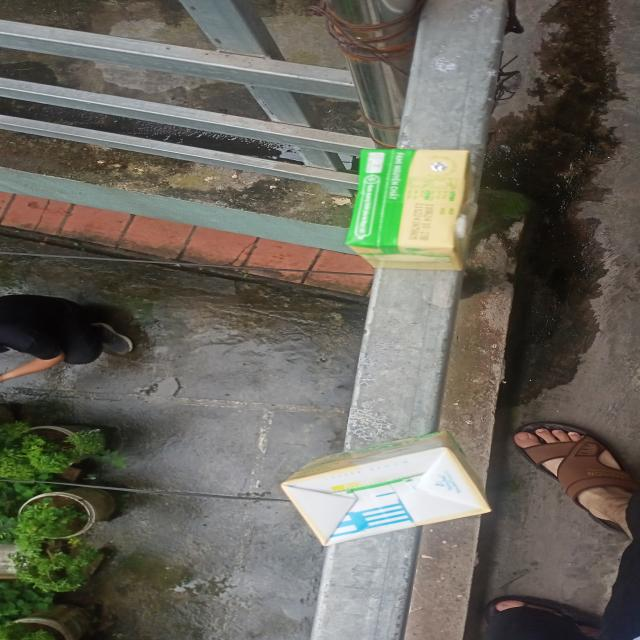Fami: (285, 431, 496, 545), (351, 140, 473, 279)
